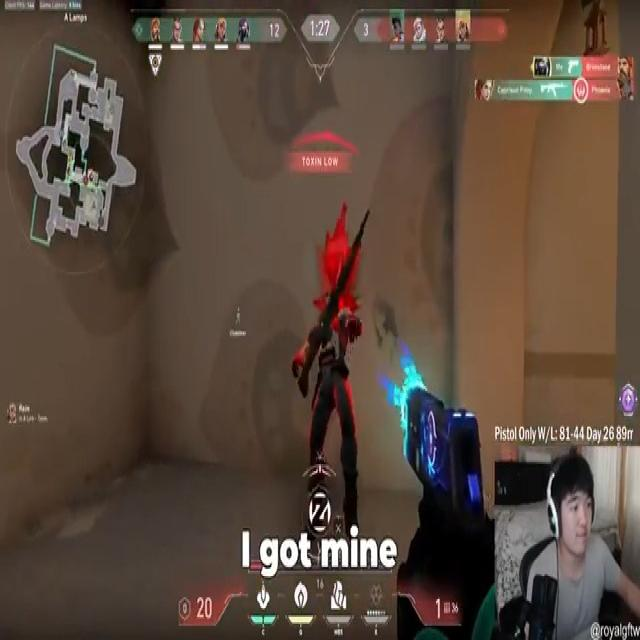enemy: (293, 274, 367, 534)
